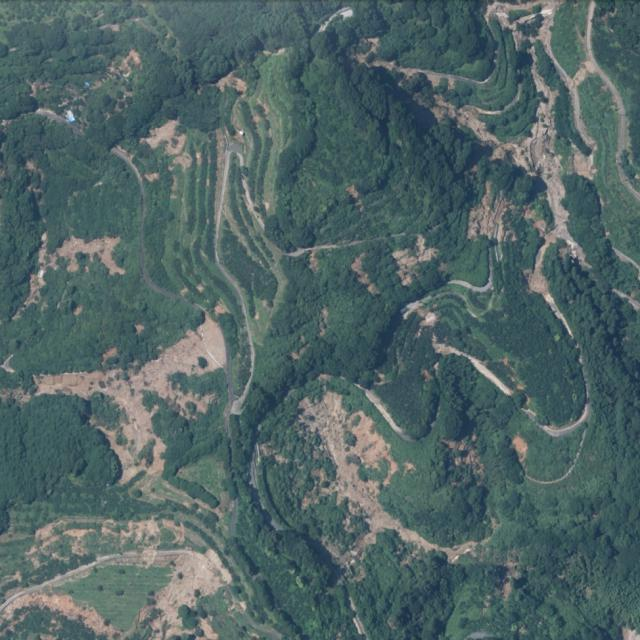landslide: (432, 0, 600, 311), (299, 392, 477, 570), (34, 315, 225, 454), (20, 232, 124, 310), (147, 550, 232, 637), (1, 594, 119, 640), (355, 39, 442, 83), (603, 190, 640, 268), (55, 236, 124, 275), (608, 156, 640, 225), (486, 1, 527, 48), (115, 448, 134, 482)
